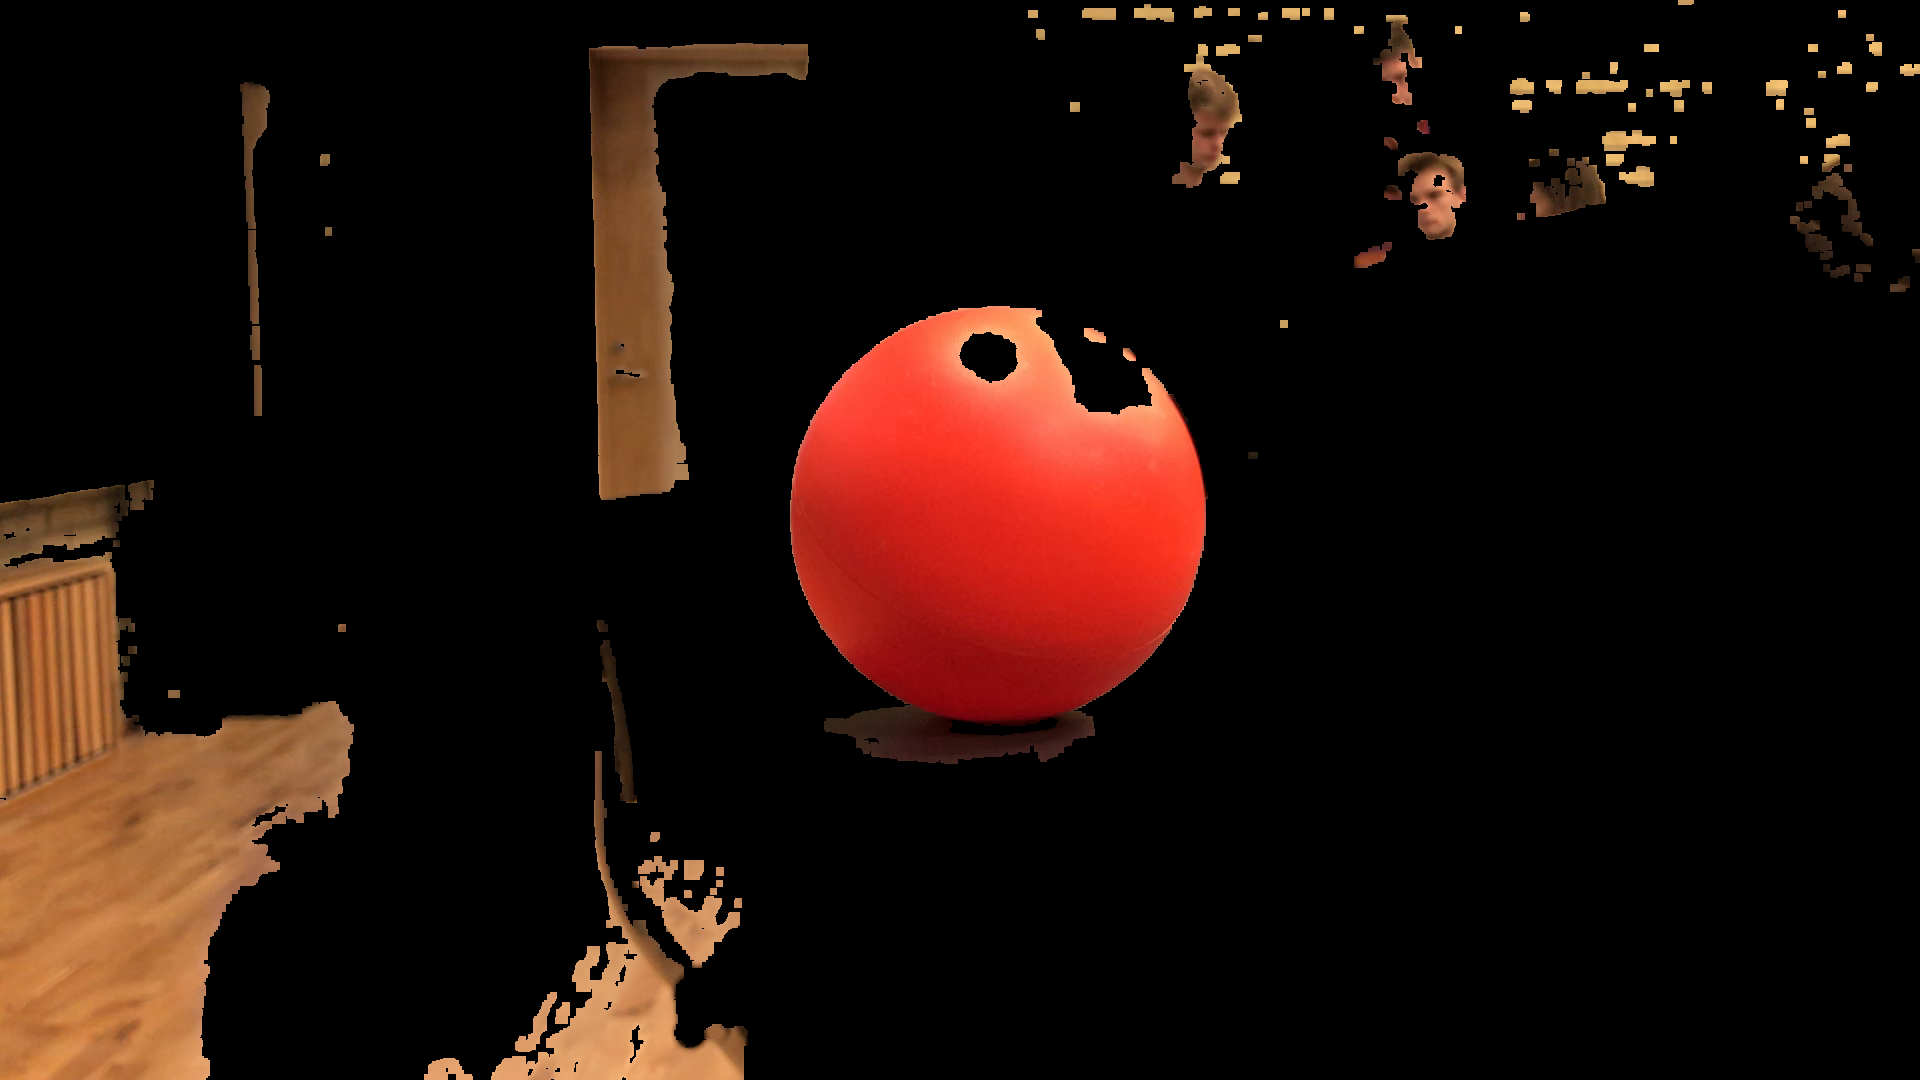Ball: (793, 303, 1211, 719)
